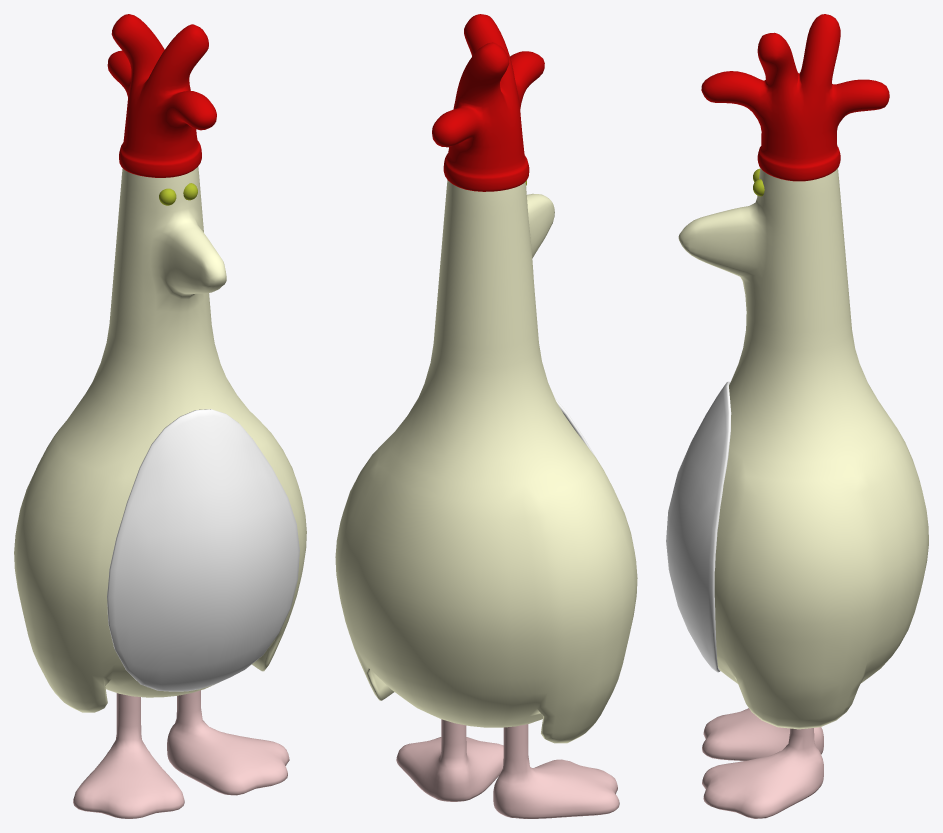
Rendered from mcgrow2.glb.
3 renders of one model, left to right at view 1: azimuth 30°, elevation 25°; view 2: azimuth 150°, elevation 25°; view 3: azimuth 270°, elevation 25°, orthographic. The views are drawn at different scales.
Visible parts, largest first — view 1: 바디002, 배떄지, 발, 모자001; view 2: 바디002, 발, 모자001; view 3: 바디002, 모자001, 배떄지, 발.
Part boxes in pixels (box(x1,y1,x2,y2)): 바디002: box(14, 166, 306, 712); 배떄지: box(107, 409, 299, 691); 발: box(73, 690, 289, 818); 모자001: box(107, 14, 216, 177); 바디002: box(335, 180, 637, 743); 발: box(396, 719, 619, 818); 모자001: box(432, 14, 544, 191); 바디002: box(678, 168, 928, 729); 모자001: box(701, 14, 889, 181); 배떄지: box(666, 381, 731, 672); 발: box(702, 708, 823, 818).
Bounding box in the file's own units: 0.0651 × 0.1761 × 0.0563.
